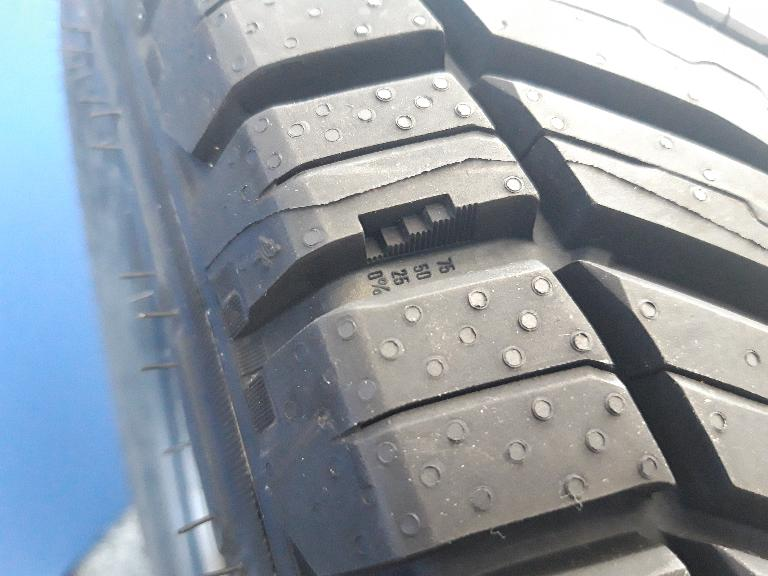temoin:100: (353, 188, 482, 273)
